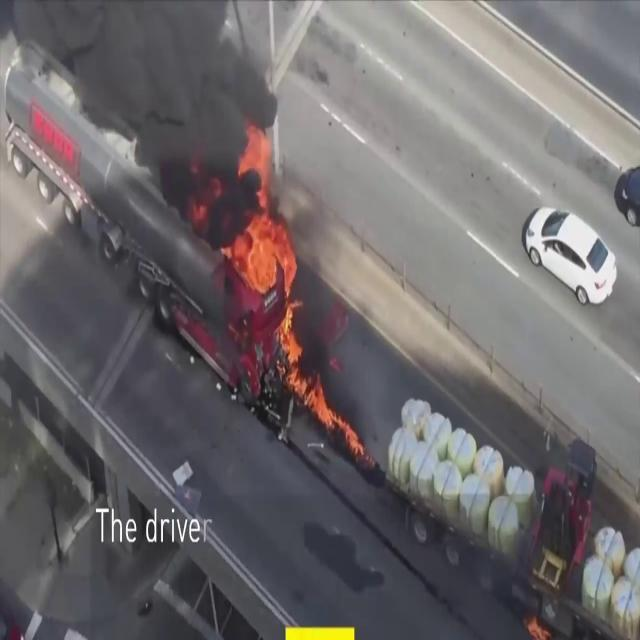Fire: (222, 182, 307, 388), (308, 382, 356, 454)
Smoke: (43, 0, 291, 164)
